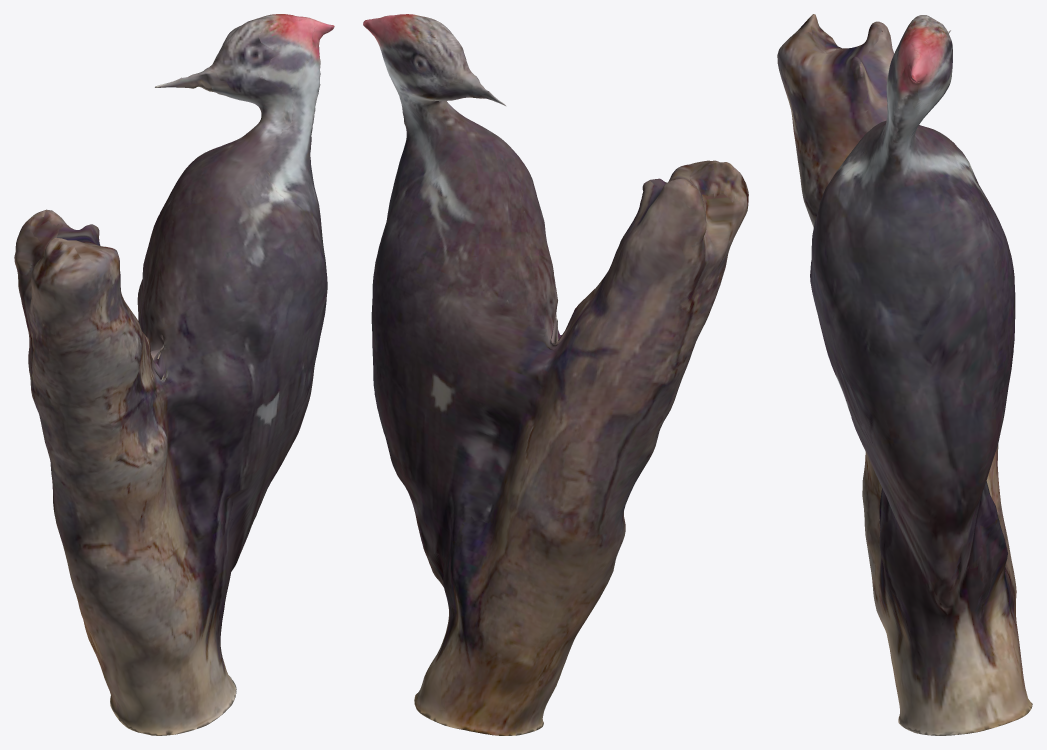
Rendered from pileatedWoodpecker.dae.
3 views of the same model, side by side, from view 1: azimuth 30°, elevation 25°; view 2: azimuth 150°, elevation 25°; view 3: azimuth 270°, elevation 25° (orthographic). The views are drawn at different scales.
Parts seen in each view (by area): view 1: model_mesh; view 2: model_mesh; view 3: model_mesh.
Part boxes in pixels (x1,y1,x2,y2): model_mesh: (14,14,334,735); model_mesh: (363,14,748,735); model_mesh: (777,14,1032,735).
Bounding box in the file's own units: 0.2087 × 0.1235 × 0.3965.
